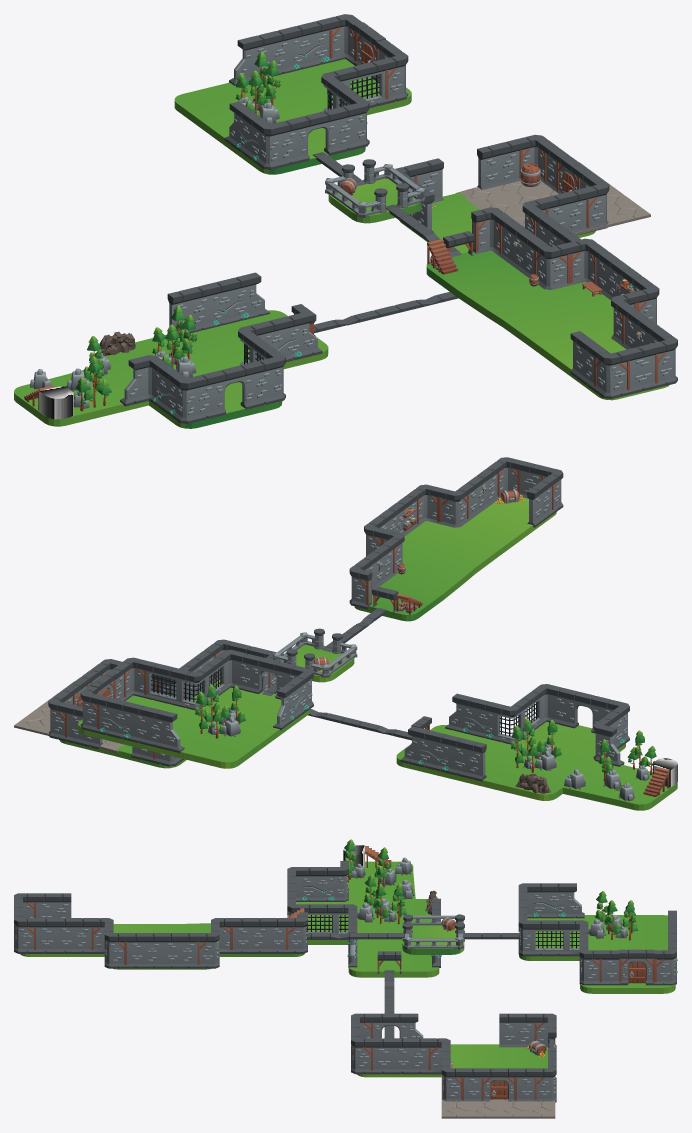
Rendered from Level 2 Polished.fbx.
3 views of the same model, one above another, from view 1: azimuth 30°, elevation 25°; view 2: azimuth 150°, elevation 25°; view 3: azimuth 270°, elevation 25° (orthographic). The views are drawn at different scales.
Visible parts, largest first — view 1: Cube.070, Cube.066, Cube.071, wall.037, wall_cracked.006, wall_cracked.009, Cube.068, wall_corner_scaffold.037, floor_tile_large.030, wall_corner_scaffold.032, Cube.072, wall.040 (+38 smaller); view 2: Cube.070, Cube.066, Cube.071, wall.040, wall_cracked.009, wall_cracked.006, wall.045, wall_cracked.005, wall_gated.005, wall_corner_scaffold.033, wall.044, wall_corner_gated.003 (+24 smaller); view 3: Cube.066, Cube.071, Cube.068, Cube.070, wall.039, wall.041, wall.042, wall.043, wall_shelves.005, wall_cracked.007, wall_cracked.004, wall.038 (+34 smaller).
Part boxes in pixels (x1,y1,x2,y2): Cube.070: (426,250,669,400); Cube.066: (14,310,328,428); Cube.071: (174,59,411,174); wall.037: (477,139,521,189); wall_cracked.006: (206,275,250,327); wall_cracked.009: (287,19,331,71); Cube.068: (399,192,595,253); wall_corner_scaffold.037: (593,347,630,398); floor_tile_large.030: (455,181,544,214); wall_corner_scaffold.032: (533,241,570,289); Cube.072: (328,178,421,223); wall.040: (167,284,211,333); Cube.070: (354,497,556,621); Cube.066: (396,721,677,810); Cube.071: (78,687,310,768); wall.040: (449,736,486,781); wall_cracked.009: (98,696,135,741); wall_cracked.006: (417,728,453,773); wall.045: (131,704,167,748); wall_cracked.005: (461,696,497,740); wall_gated.005: (145,661,182,705); wall_corner_scaffold.033: (438,486,470,527); wall.044: (527,478,553,527); wall_corner_gated.003: (178,667,209,710); Cube.066: (287,861,439,977); Cube.071: (519,915,675,993); Cube.068: (357,1044,547,1077); Cube.070: (20,923,304,969); wall.039: (393,1038,428,1074); wall.041: (162,933,197,968); wall.042: (233,918,268,953); wall.043: (56,918,91,953); wall_shelves.005: (127,933,162,968); wall_cracked.007: (531,883,566,918); wall_cracked.004: (300,867,335,901); wall.038: (499,1013,534,1047).
Size of the model in its own units: 13684 by 2951 by 15025.
33 materials, 33 textured.
